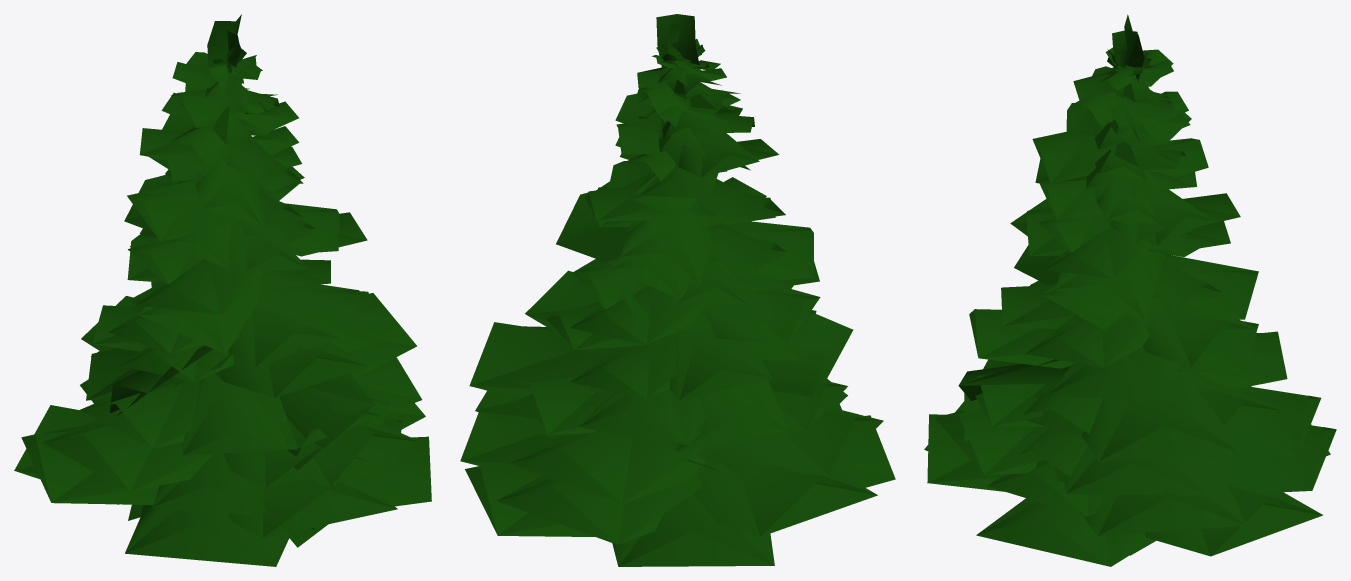
File: tree.glb
3 renders of one model, left to right at view 1: azimuth 30°, elevation 25°; view 2: azimuth 150°, elevation 25°; view 3: azimuth 270°, elevation 25°, orthographic. The views are drawn at different scales.
Visible parts, largest first — view 1: Pine_4m; view 2: Pine_4m; view 3: Pine_4m.
Boxes of the visible parts, x1,y1,x2,y2 form: Pine_4m: (14,14,431,566); Pine_4m: (460,14,895,566); Pine_4m: (924,14,1336,566).
Size of the model in its own units: 16.48 by 21.45 by 15.95.
